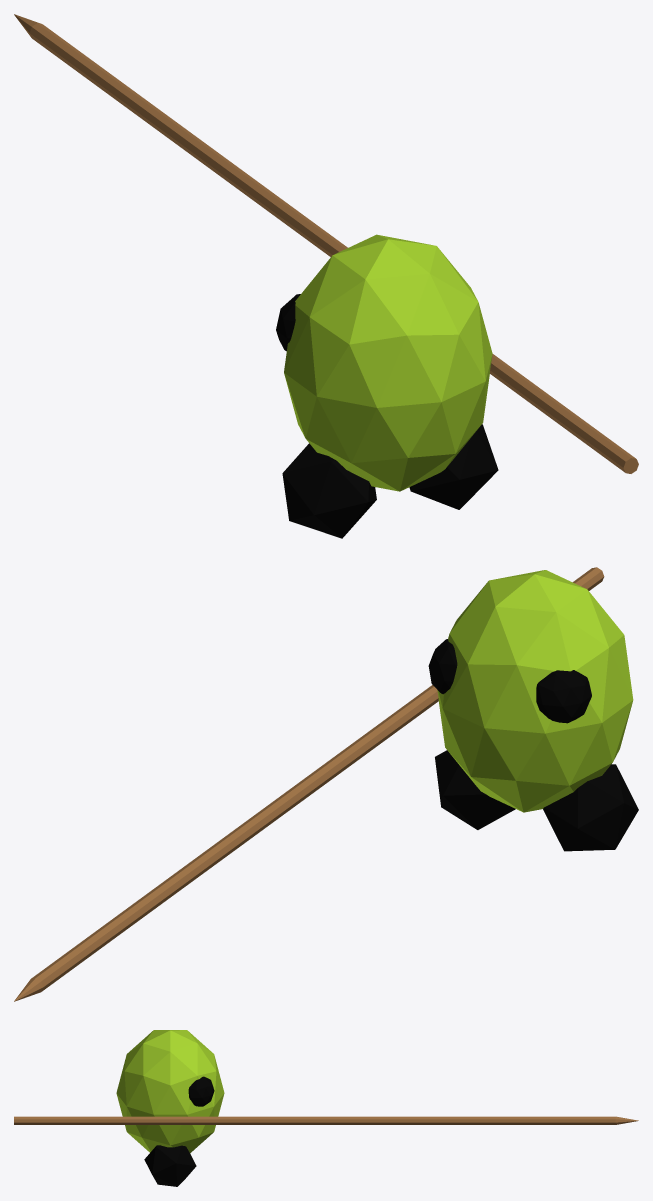
Rendered from stab.f0002.glb.
3 renders of one model, top to bottom at view 1: azimuth 30°, elevation 25°; view 2: azimuth 150°, elevation 25°; view 3: azimuth 270°, elevation 25°, orthographic. The views are drawn at different scales.
Visible parts, largest first — view 1: Body.001; view 2: Body.001; view 3: Body.001.
Part boxes in pixels (x1,y1,x2,y2): Body.001: [14, 14, 638, 538]; Body.001: [14, 567, 638, 1001]; Body.001: [14, 1030, 638, 1186].
Size of the model in its own units: 2.17 by 2.85 by 11.56.
1 material, 1 textured.
